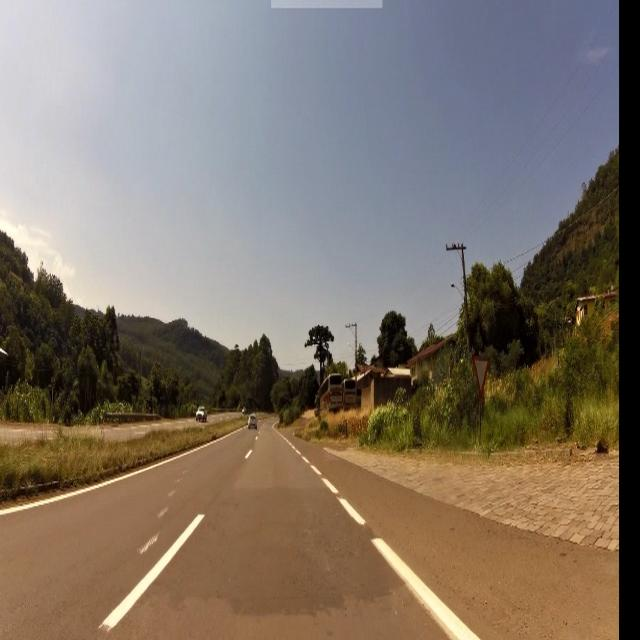R-2: (475, 348, 488, 395)
